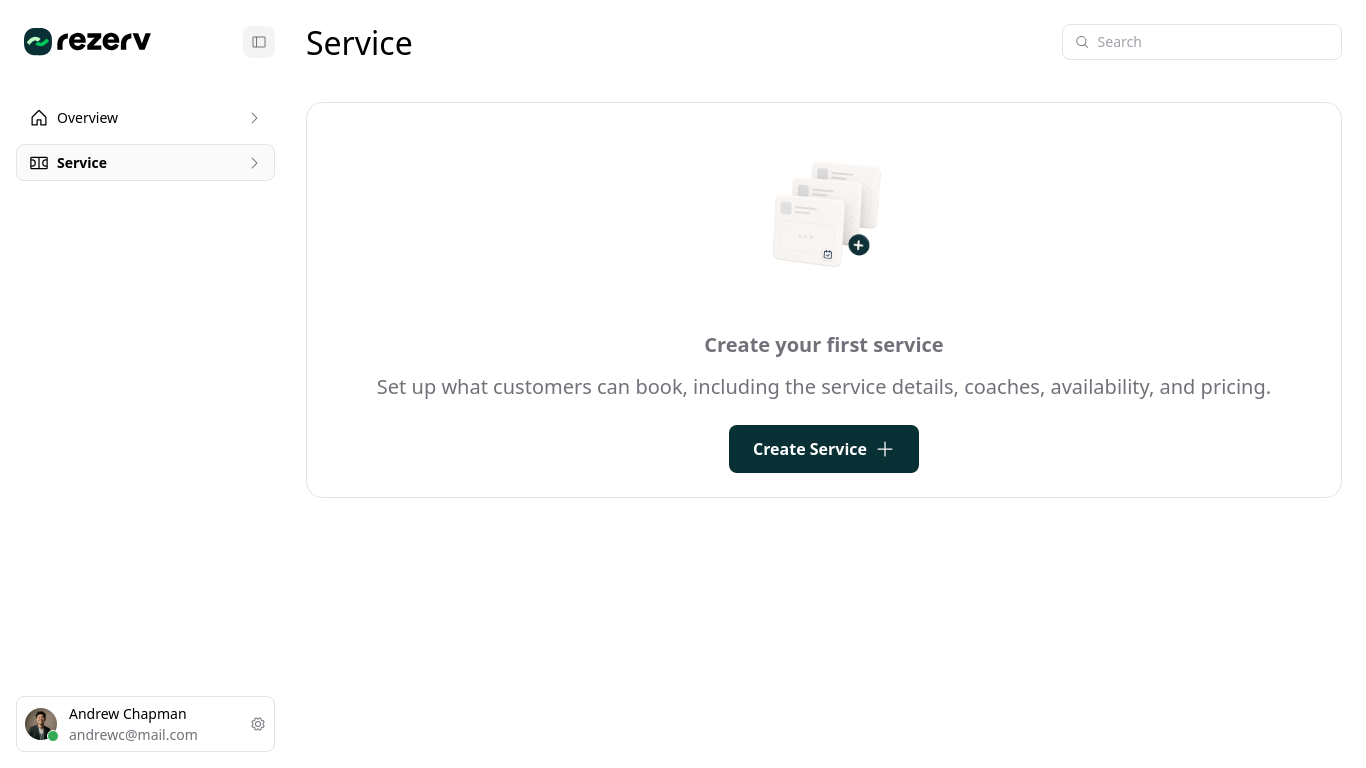
Test: walks the full booking flow from the empty state to a published confirmation
Click the button "Create Service" at (824, 449), box x1=729 y1=425 x2=919 y2=473
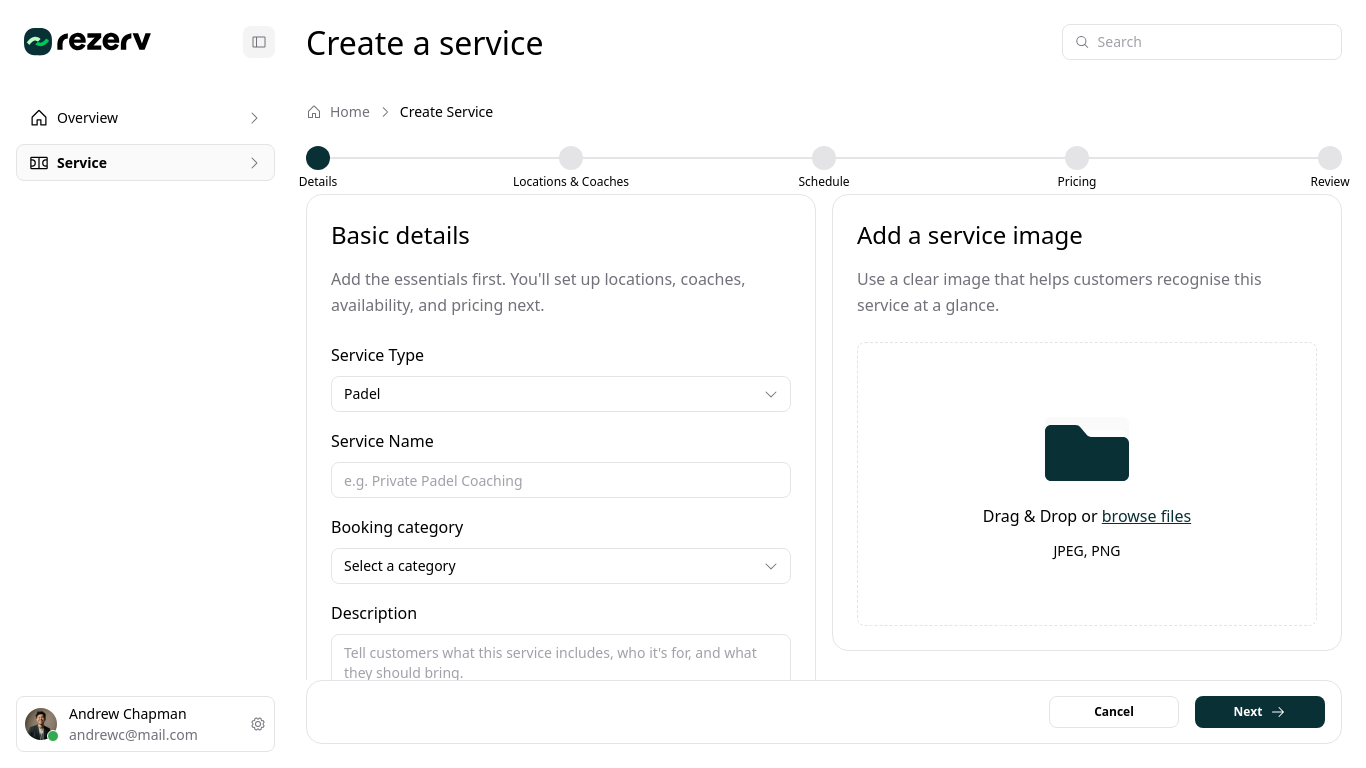
Check: the field labelled "Service Name" is shown
Note: Step 2 (Details, empty image state) is the only screen with this label.
Type "Personal Training" into the field labelled "Service Name" at (561, 480), box x1=331 y1=462 x2=791 y2=498
Click the button "Next" at (1260, 712), box x1=1195 y1=696 x2=1325 y2=728
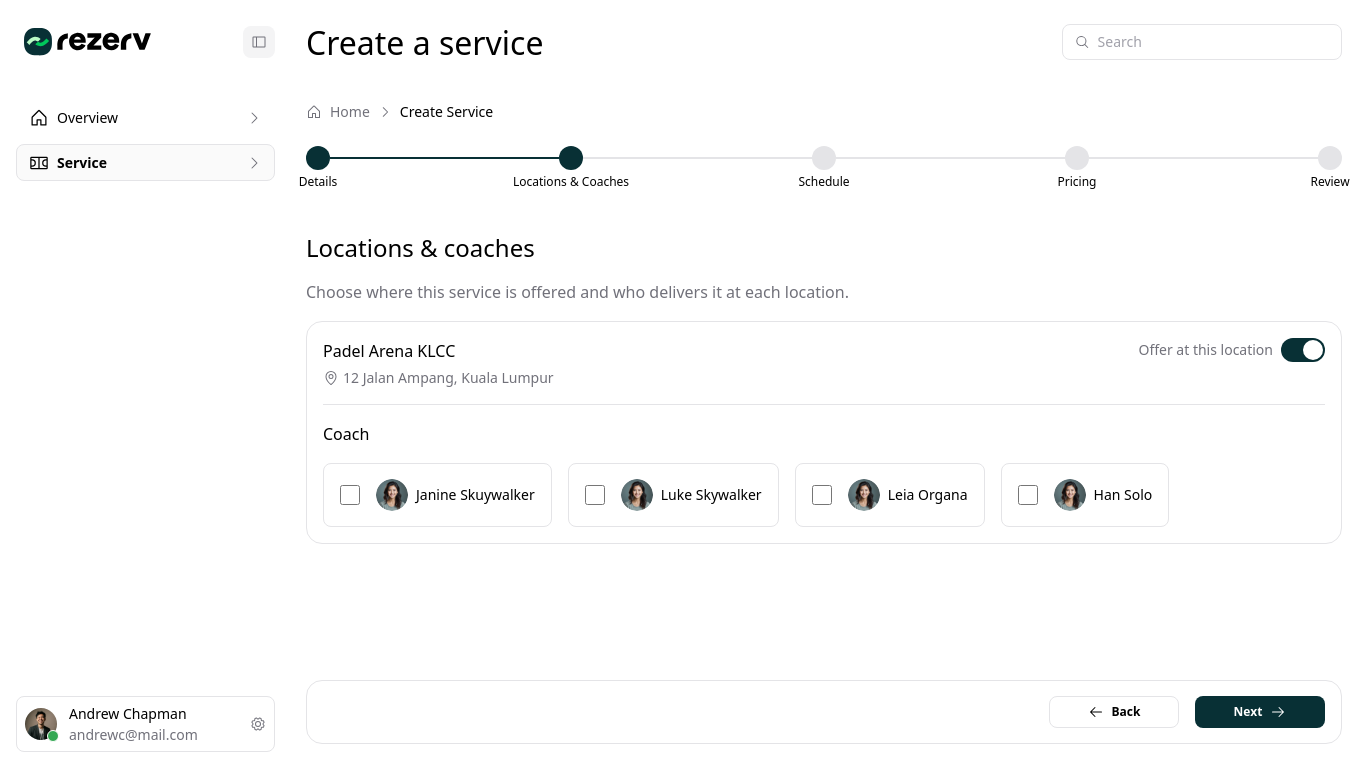
Check: the text "Padel Arena KLCC" is shown, box x1=323 y1=340 x2=455 y2=362
Click the button "Next" at (1260, 712), box x1=1195 y1=696 x2=1325 y2=728
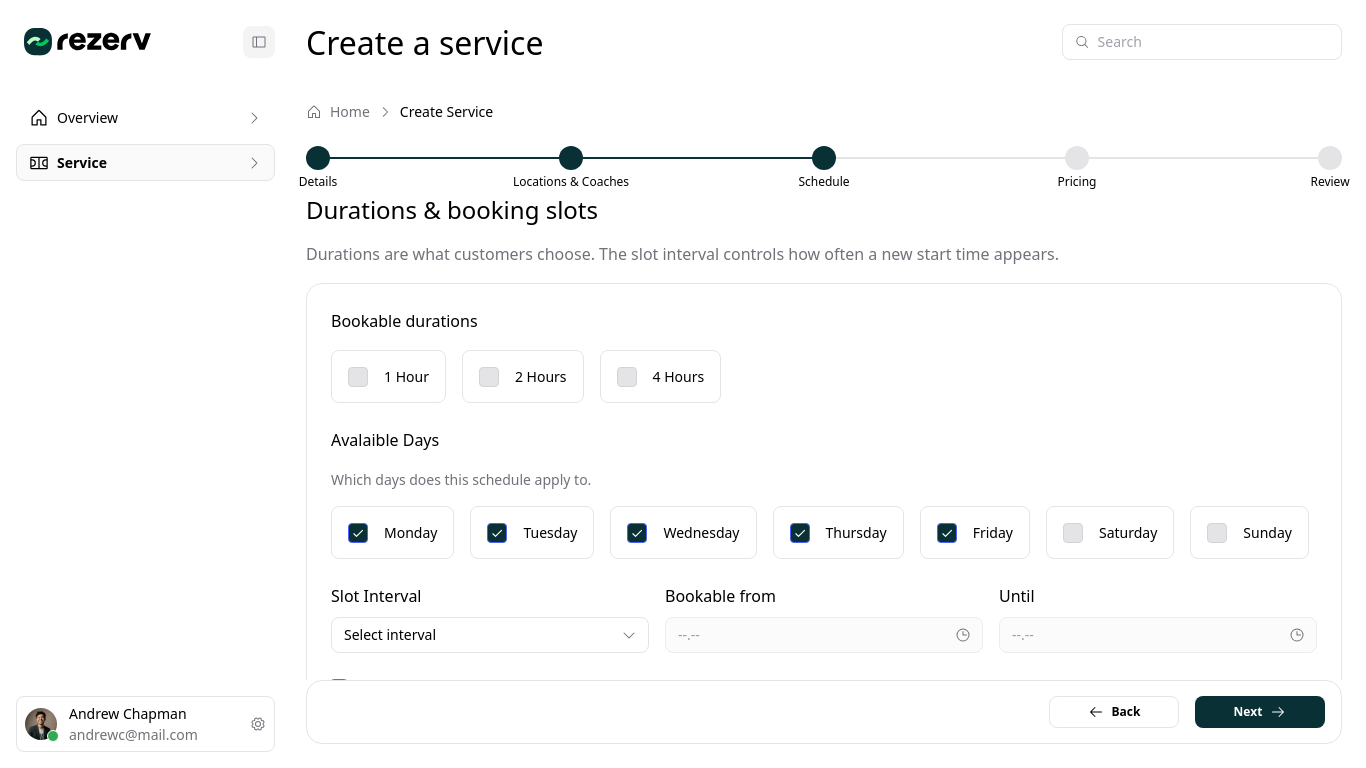
Check: the checkbox labelled "1 Hour" is shown, box x1=331 y1=350 x2=446 y2=403
Click the button "Next" at (1260, 712), box x1=1195 y1=696 x2=1325 y2=728
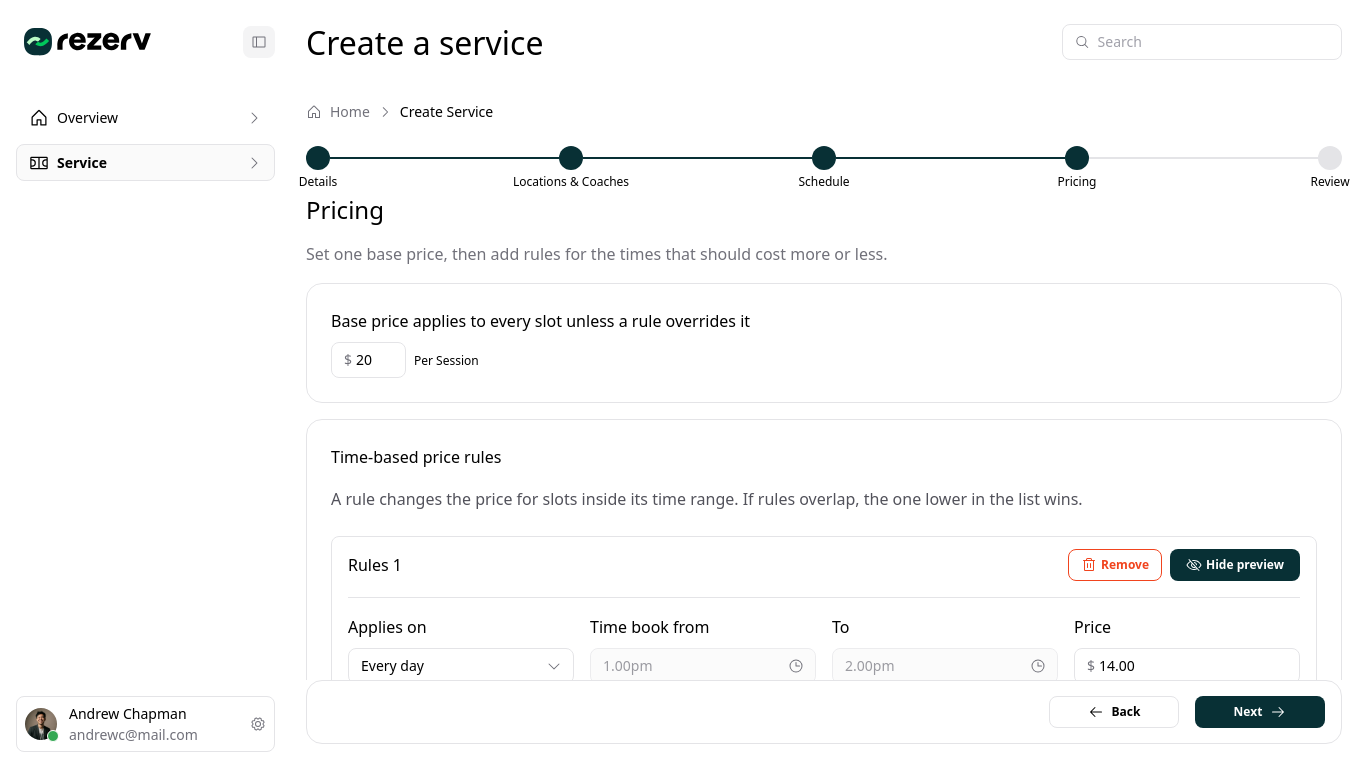
Check: the field labelled "Base price applies to every slot unless a rule overrides it" is shown, box x1=356 y1=350 x2=393 y2=370
Click the button "Next" at (1260, 712), box x1=1195 y1=696 x2=1325 y2=728
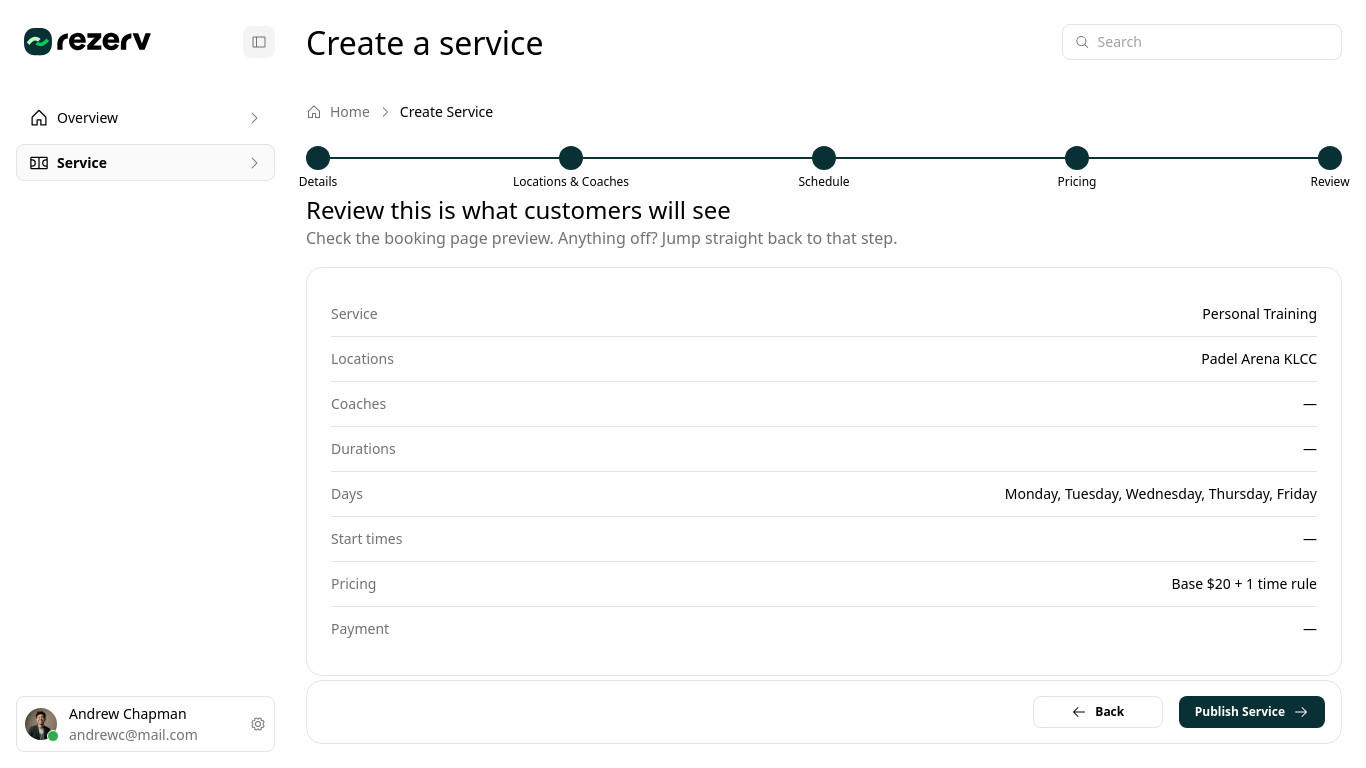
Check: the element with test id "review-details" is shown, box x1=331 y1=292 x2=1317 y2=651
Check: the text "Personal Training" is shown, box x1=1202 y1=304 x2=1317 y2=324
Click the button "Publish Service" at (1252, 712), box x1=1179 y1=696 x2=1325 y2=728
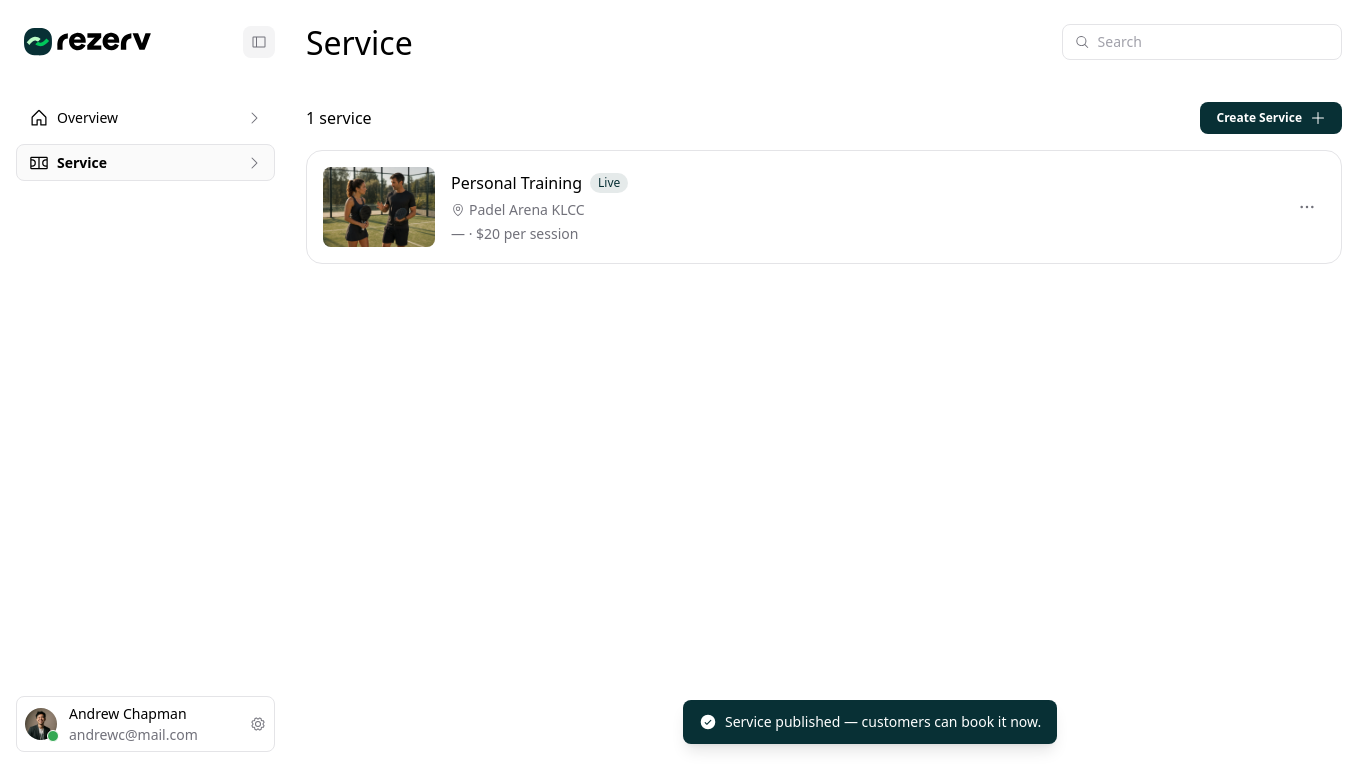
Check: the text "Personal Training" is shown, box x1=451 y1=170 x2=582 y2=196
Check: the text "Service published — customers can book it now." is shown, box x1=683 y1=700 x2=1057 y2=744
Check: the text "1 service" is shown, box x1=306 y1=105 x2=372 y2=131
